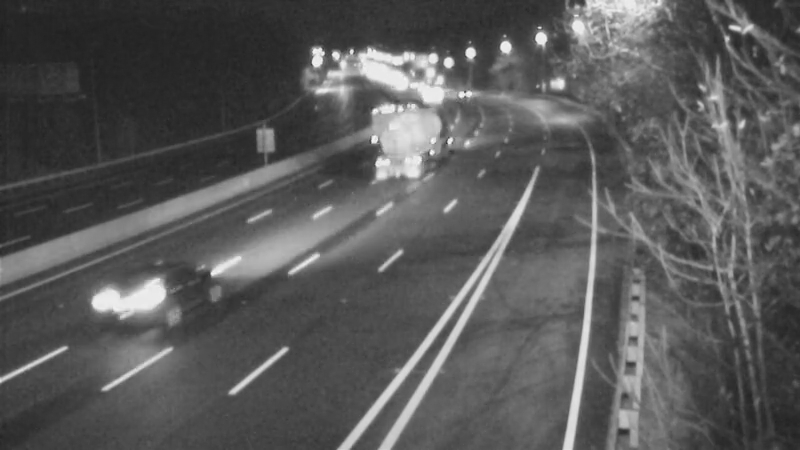vehicle: (92, 257, 172, 337), (442, 68, 492, 118), (406, 69, 456, 119), (393, 111, 443, 161)
